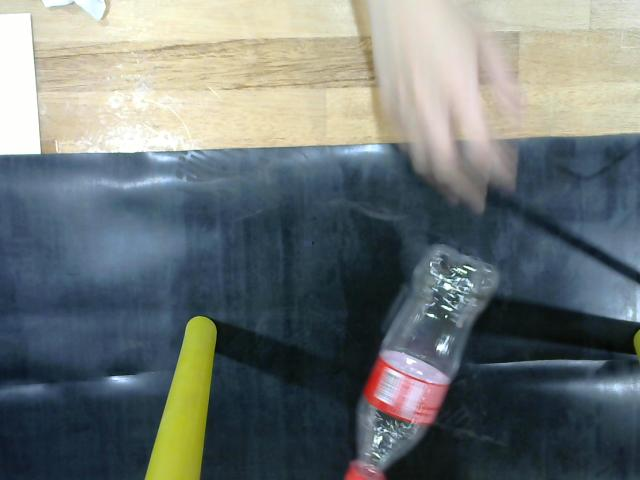bottle: (341, 245, 511, 480)
